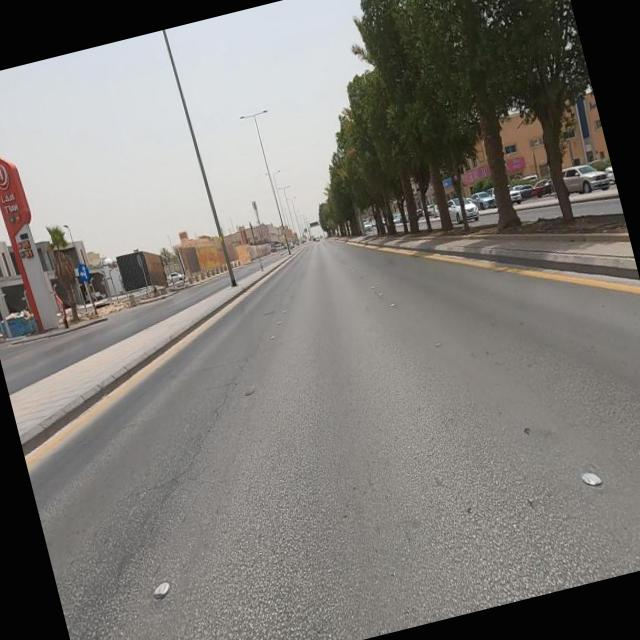debris: (96, 214, 191, 317), (164, 216, 242, 298), (215, 213, 278, 299)
